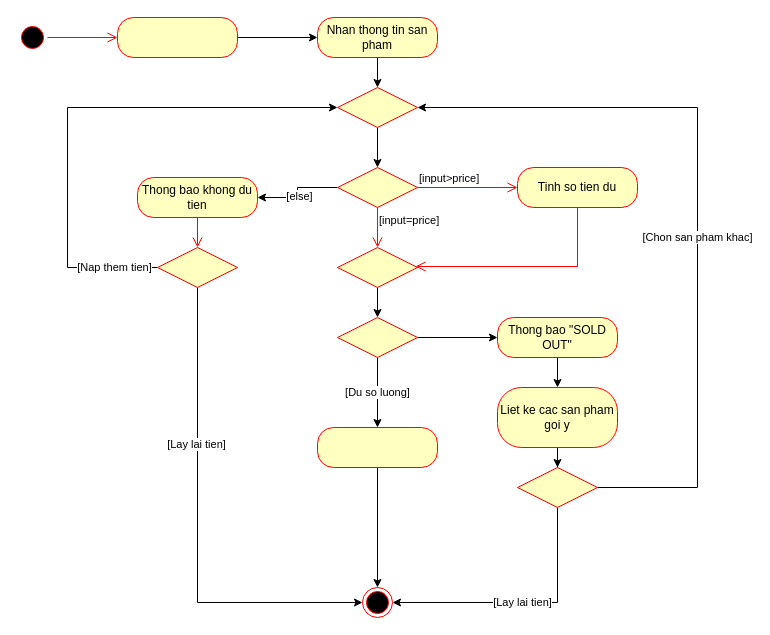
The diagram is 770 pixels wide and 635 high, and some of its shapes have lost their labels. Here are the shapes that lost their labels. From the top down, the box of each, then its label:
(116, 16, 238, 58): Nhan tien
(316, 426, 438, 468): Cap nhat lai so luong
